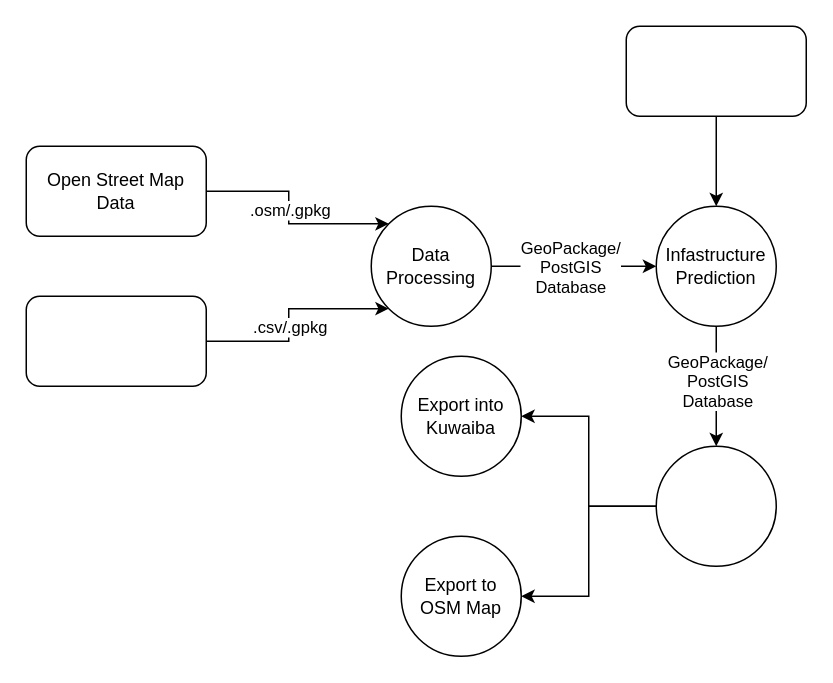
The diagram is 833 pixels wide and 683 high, and some of its shapes have lost their labels. The centre of each missing label's shape, as x and y in pixels:
"Kuwaiba Data Formatting" belongs at (715,505).
"Prediction Algorithm" belongs at (715,70).
"UPRN Data" belongs at (115,340).
